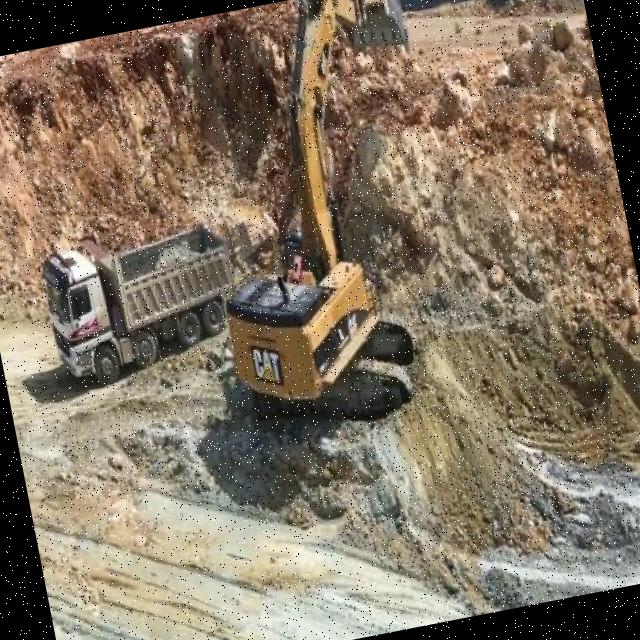Dump Truck: (35, 208, 252, 396)
Excavator: (164, 0, 476, 441)
